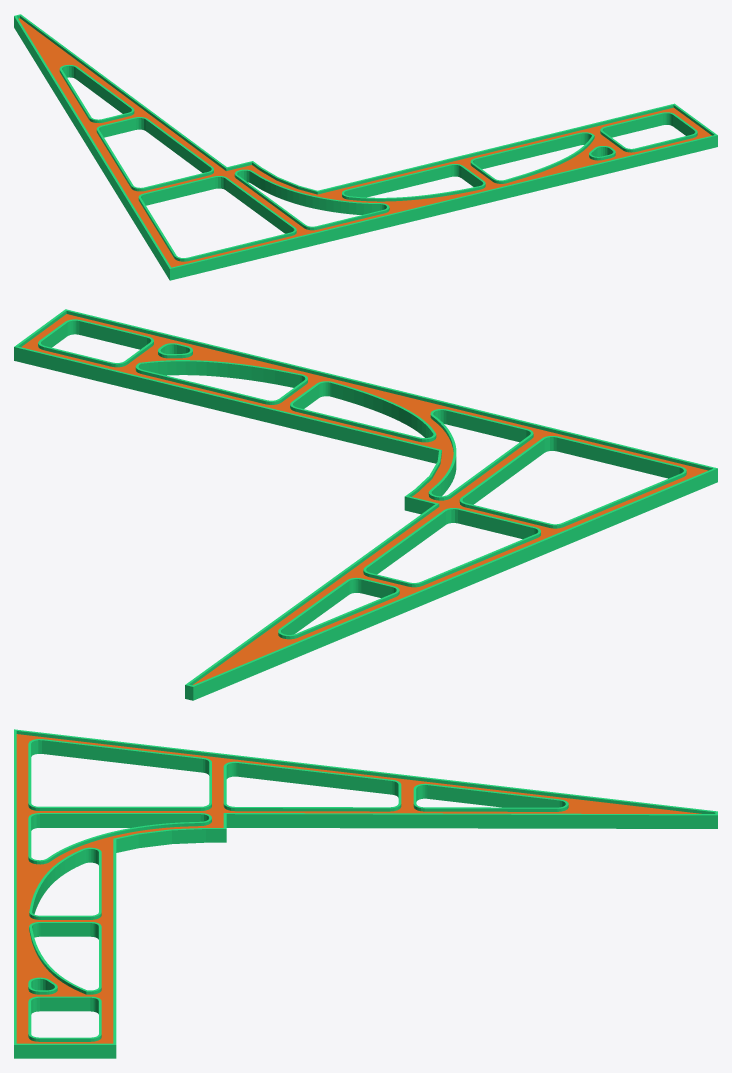
The model's file is truss.fbx.
The picture shows the model from 3 angles, top to bottom: view 1: azimuth 30°, elevation 25°; view 2: azimuth 150°, elevation 25°; view 3: azimuth 270°, elevation 25°; orthographic projection. The views are drawn at different scales.
Parts seen in each view (by area): view 1: object_1; view 2: object_1; view 3: object_1.
Part boxes in pixels (left/top/right/bottom): object_1: left=14, top=14, right=717, bottom=280; object_1: left=14, top=309, right=717, bottom=700; object_1: left=14, top=729, right=717, bottom=1058.
Bounding box in the file's own units: 4.33 × 0.088 × 4.08.
